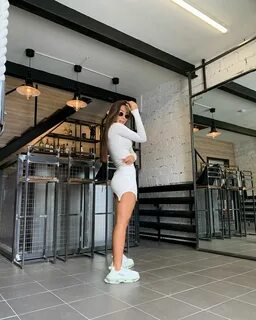awake: (99, 99, 149, 286)
